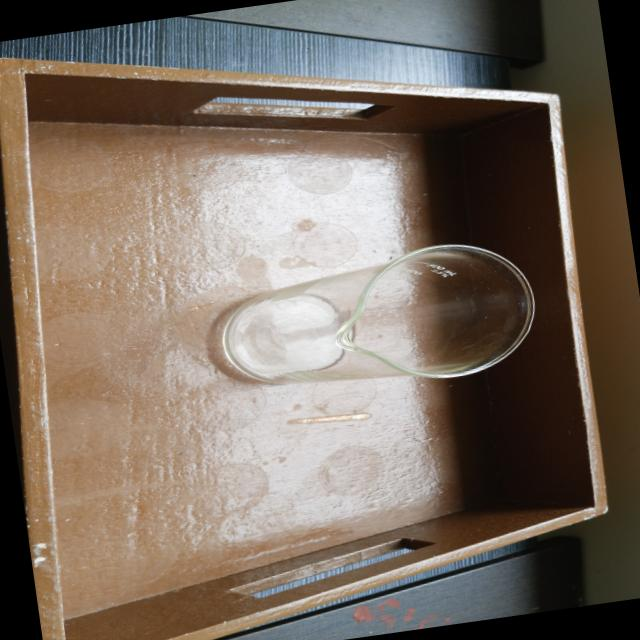beaker: (200, 228, 552, 414)
